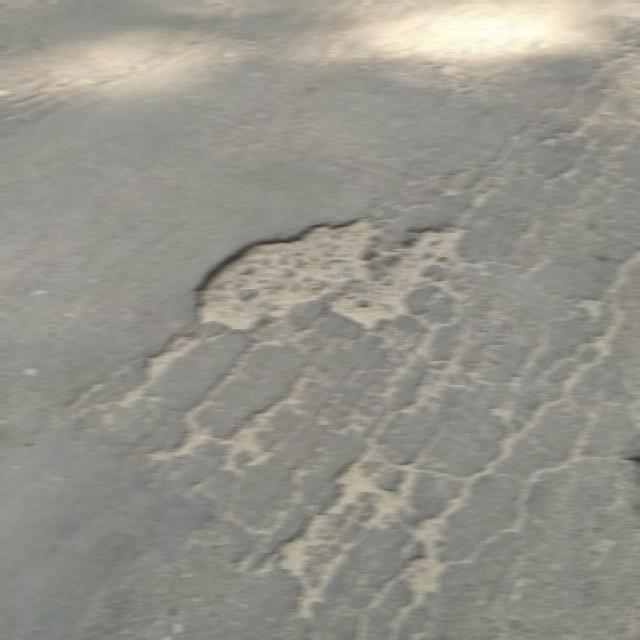Pothole: (244, 450, 468, 640), (175, 210, 464, 346)
